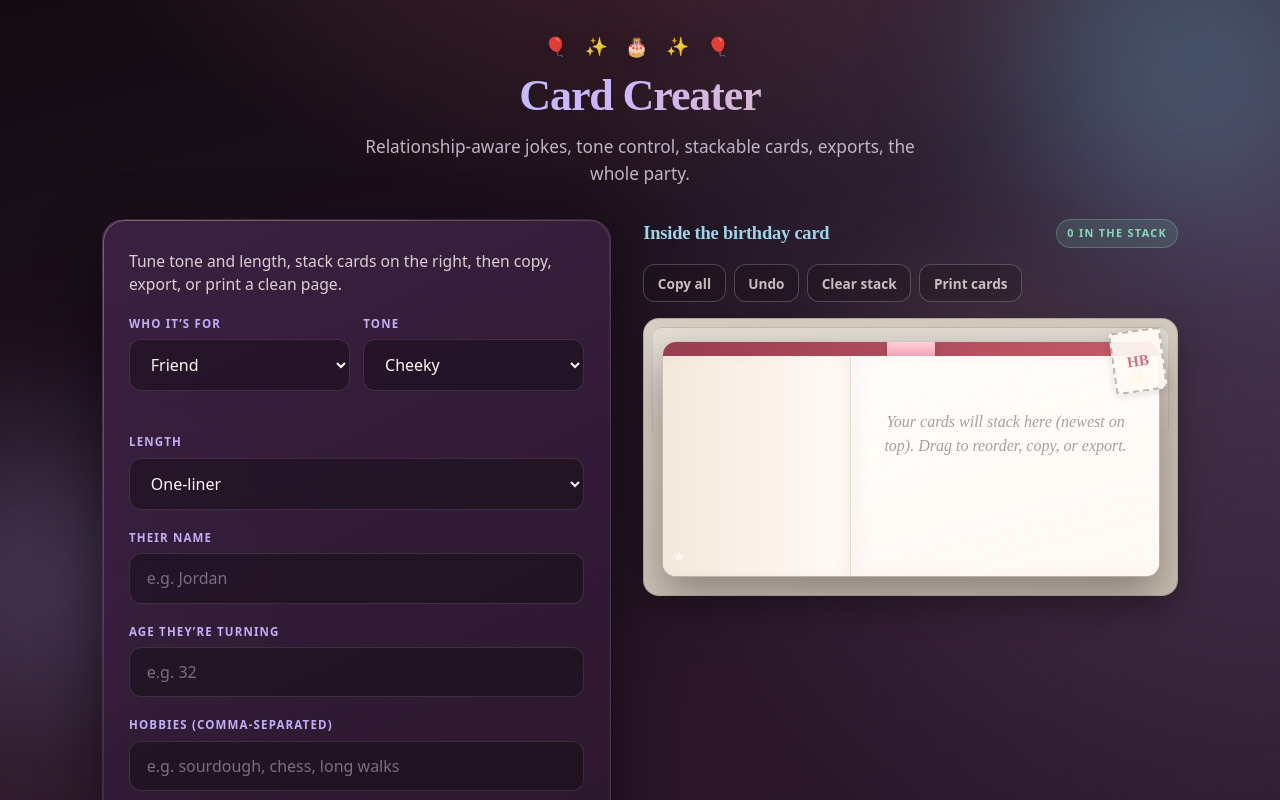
it: App › rejects invalid input (0: )
In the number field labelled "Age they’re turning": (356, 672) x1=129 y1=647 x2=584 y2=697, type "32"
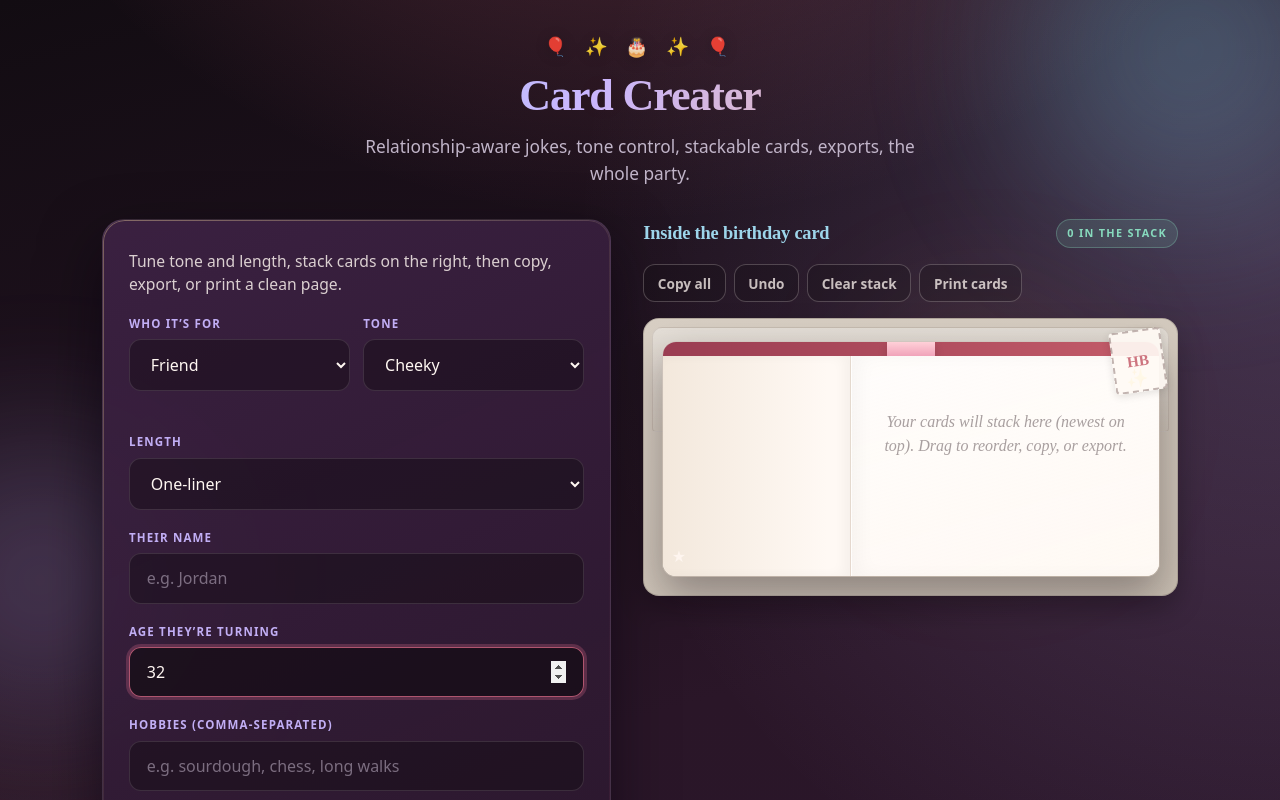
In the field labelled "Hobbies (comma-separated)": (356, 766) x1=129 y1=741 x2=584 y2=791, type "chess"
(page scrolled)
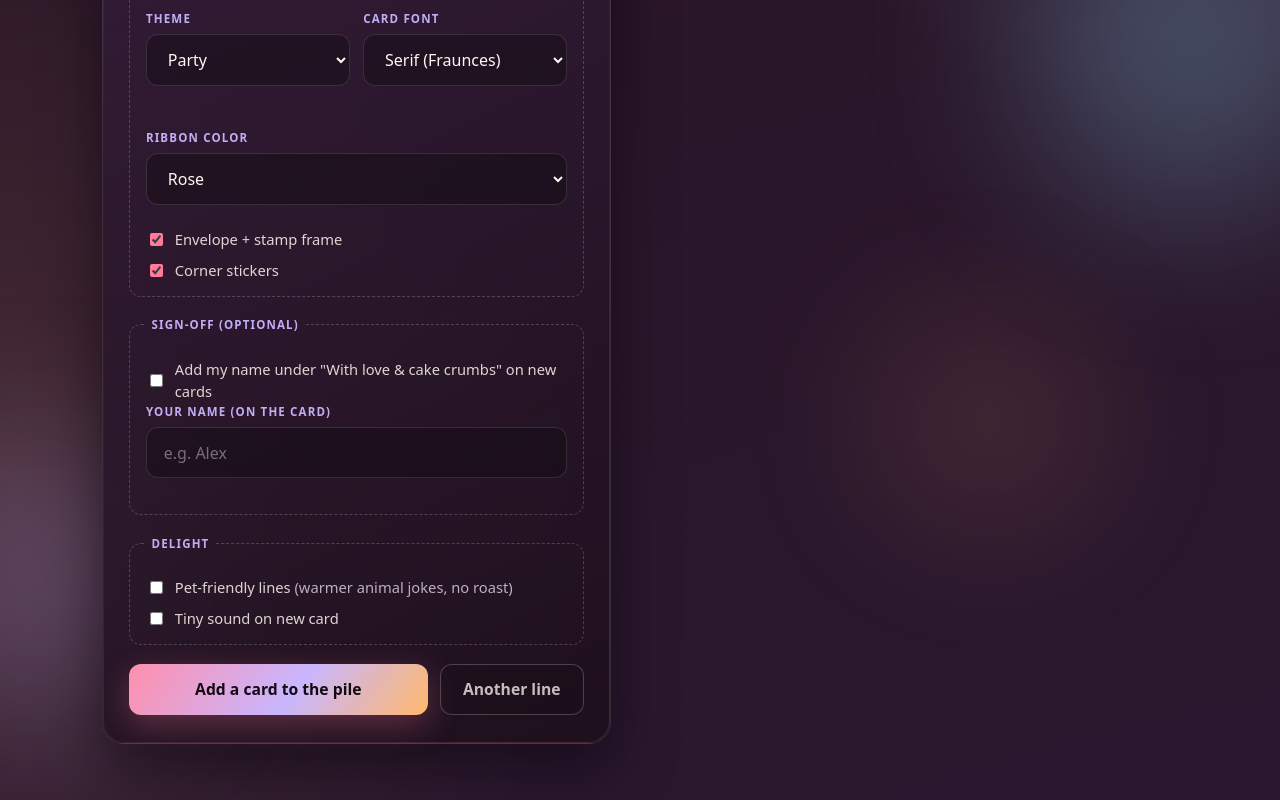
Click the button "Add a card to the pile": (278, 689) x1=129 y1=664 x2=428 y2=715
(page scrolled)
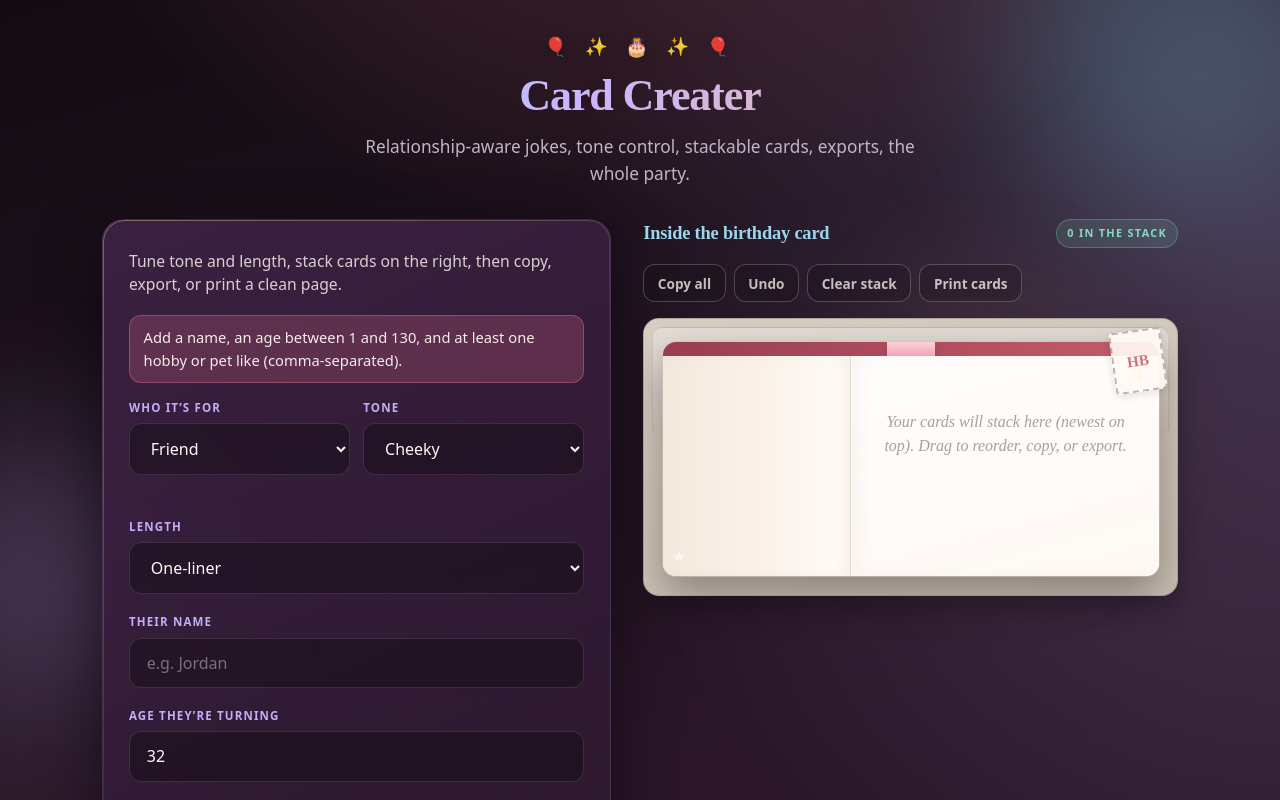
Expected: the text "0 in the stack" is shown, x1=1056 y1=219 x2=1178 y2=248
Now the message is shown, box x1=129 y1=315 x2=584 y2=383
